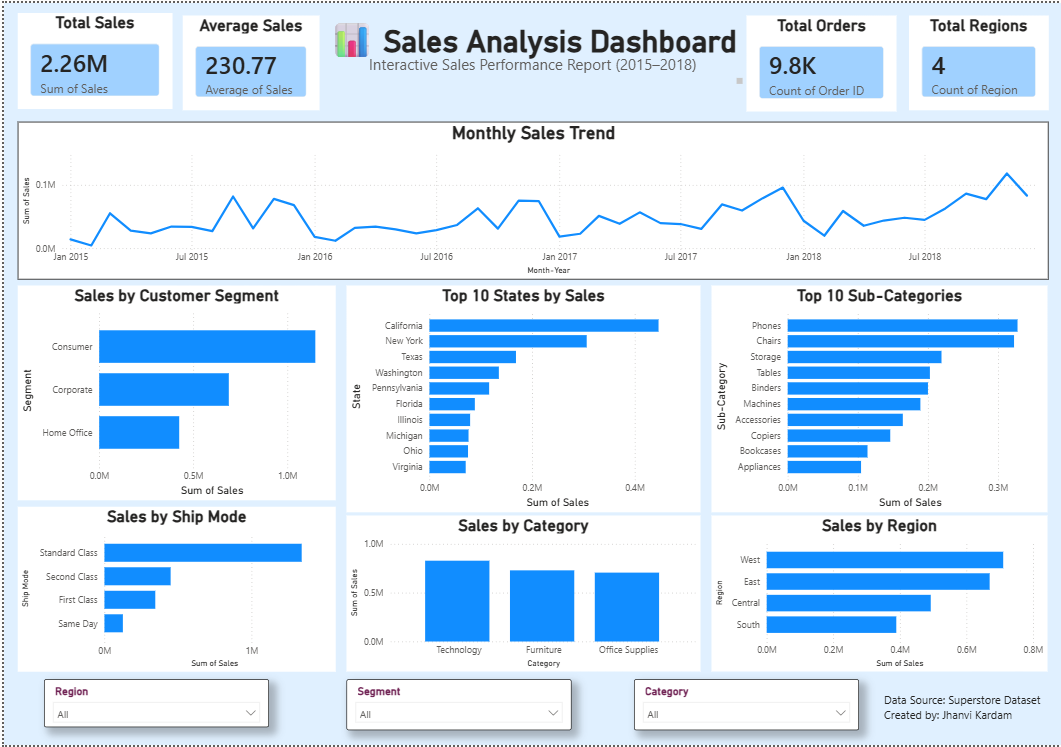

What the dashboard file says about the page in this screenshot:
{"tool":"powerbi","page":{"name":"Page 1","canvas":[1410,990],"ordinal":0},"visuals":[{"type":"cardVisual","title":"Total Sales","fields":{"Data":["Sum(Cleaned_Sales_Data.Sales)"]},"box":[18,14,206,128],"z":0},{"type":"cardVisual","title":"Average Sales","fields":{"Data":["Avg(Cleaned_Sales_Data.Sales)"]},"box":[238,16,182,126],"z":1000},{"type":"cardVisual","title":"Total Orders","fields":{"Data":["CountNonNull(Cleaned_Sales_Data.Order ID)"]},"box":[990,16,200,128],"z":2000},{"type":"cardVisual","title":"Total Regions","fields":{"Data":["Count(Cleaned_Sales_Data.Region)"]},"box":[1206,16,186,126],"z":3000},{"type":"lineChart","title":"Monthly Sales Trend","fields":{"Category":["Cleaned_Sales_Data.Month-Year"],"Y":["Sum(Cleaned_Sales_Data.Sales)"]},"box":[18,158,1374,210],"z":4000},{"type":"clusteredBarChart","title":"Sales by Region","fields":{"Category":["Cleaned_Sales_Data.Region"],"Y":["Sum(Cleaned_Sales_Data.Sales)"]},"box":[944,684,448,208],"z":5000},{"type":"clusteredColumnChart","title":"Sales by Category","fields":{"Category":["Cleaned_Sales_Data.Category"],"Y":["Sum(Cleaned_Sales_Data.Sales)"]},"box":[456,684,472,208],"z":6000},{"type":"clusteredBarChart","title":"Sales by Customer Segment","fields":{"Category":["Cleaned_Sales_Data.Segment"],"Y":["Sum(Cleaned_Sales_Data.Sales)"]},"box":[18,376,424,286],"z":7000},{"type":"clusteredBarChart","title":"Sales by Ship Mode","fields":{"Category":["Cleaned_Sales_Data.Ship Mode"],"Y":["Sum(Cleaned_Sales_Data.Sales)"]},"box":[18,672,424,220],"z":8000},{"type":"clusteredBarChart","title":"Top 10 States by Sales","fields":{"Category":["Cleaned_Sales_Data.State"],"Y":["Sum(Cleaned_Sales_Data.Sales)"]},"box":[456,376,472,302],"z":9000},{"type":"clusteredBarChart","title":"Top 10 Sub-Categories","fields":{"Category":["Cleaned_Sales_Data.Sub-Category"],"Y":["Sum(Cleaned_Sales_Data.Sales)"]},"box":[944,376,448,302],"z":10000},{"type":"slicer","fields":{"Values":["Cleaned_Sales_Data.Region"]},"box":[54,902,300,64],"z":11000},{"type":"slicer","fields":{"Values":["Cleaned_Sales_Data.Segment"]},"box":[456,902,300,68],"z":12000},{"type":"slicer","fields":{"Values":["Cleaned_Sales_Data.Category"]},"box":[840,902,300,68],"z":13000},{"type":"textbox","title":"📊 Sales Analysis Dashboard ","box":[420,16,570,96],"z":14000},{"type":"textbox","box":[1168,914,224,54],"z":15000}]}

Visuals, with their boxes in screenshot pixels (x1, y1, x2, y2), scaled from the page's 1410x990 canvas onto the 1061x747 screenshot:
"Total Sales" cardVisual: 14 11 169 107
"Average Sales" cardVisual: 179 12 316 107
"Total Orders" cardVisual: 745 12 895 109
"Total Regions" cardVisual: 907 12 1047 107
"Monthly Sales Trend" lineChart: 14 119 1047 278
"Sales by Region" clusteredBarChart: 710 516 1047 673
"Sales by Category" clusteredColumnChart: 343 516 698 673
"Sales by Customer Segment" clusteredBarChart: 14 284 333 500
"Sales by Ship Mode" clusteredBarChart: 14 507 333 673
"Top 10 States by Sales" clusteredBarChart: 343 284 698 512
"Top 10 Sub-Categories" clusteredBarChart: 710 284 1047 512
slicer - Cleaned_Sales_Data.Region: 41 681 266 729
slicer - Cleaned_Sales_Data.Segment: 343 681 569 732
slicer - Cleaned_Sales_Data.Category: 632 681 858 732
"📊 Sales Analysis Dashboard " textbox: 316 12 745 85
textbox: 879 690 1047 730
